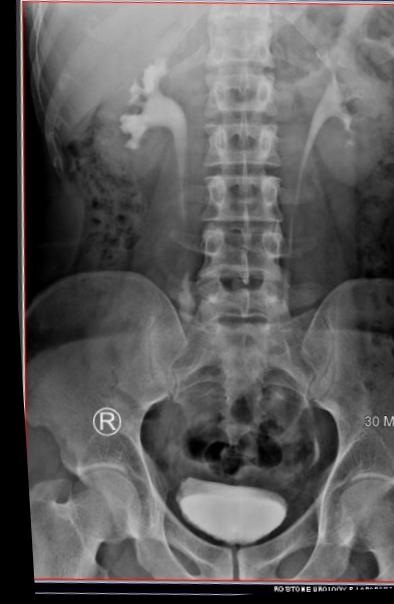bladder: (147, 468, 293, 567)
left kidney: (279, 18, 393, 200)
right kidney: (65, 19, 187, 190)
vertebrae: (191, 59, 278, 119)
